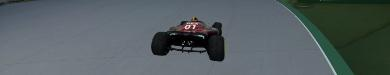Car: (150, 16, 225, 61)
